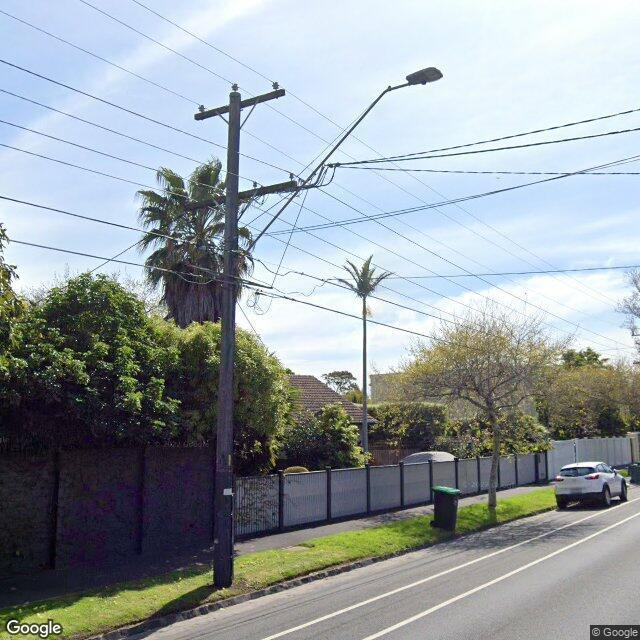HV-transmission: (195, 82, 287, 121)
crossarm: (184, 173, 300, 211), (195, 89, 286, 120)
streetlight: (234, 66, 444, 268)
timber-pole: (212, 90, 242, 588)
